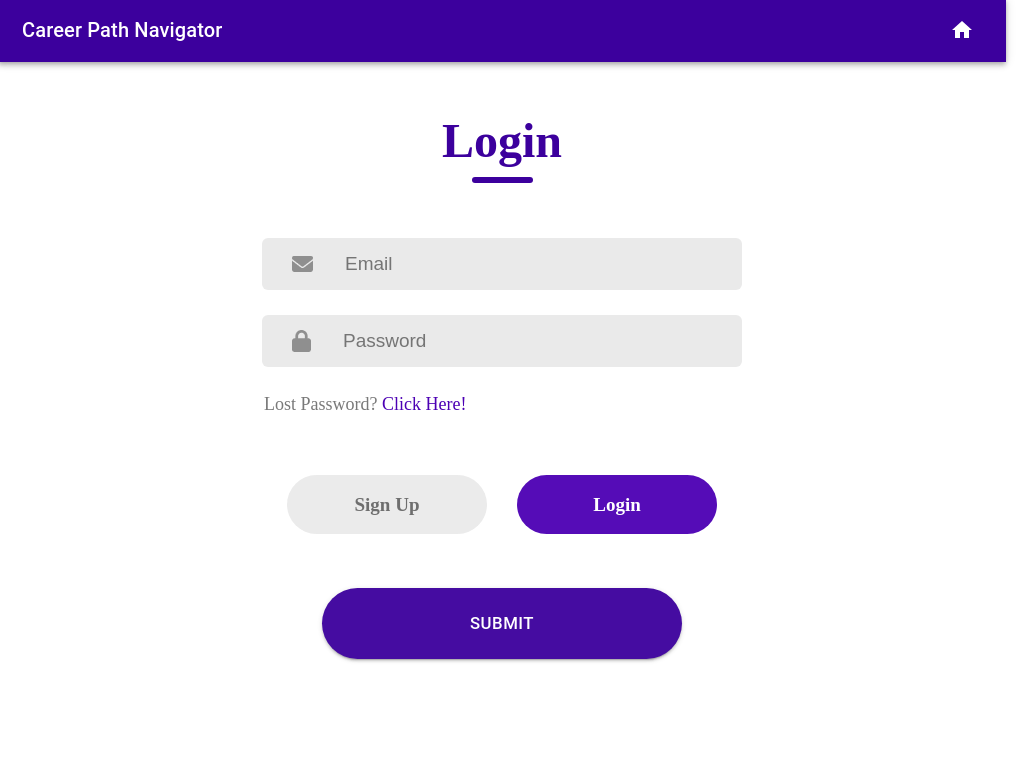
Test case: LoginSignup Component › should submit login form and handle errors
The image size is (1024, 768).
// Enter login credentials
In the field with placeholder "Email": (543, 264) [343,238,742,290], type "testuser@example.com"
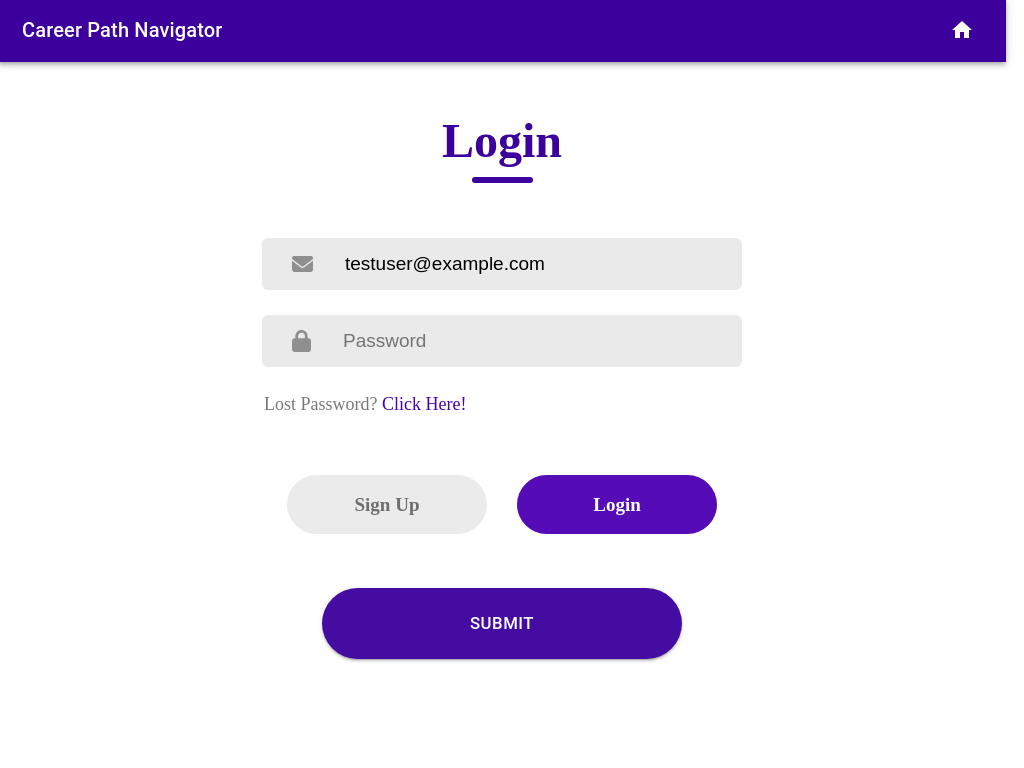
In the password field with placeholder "Password": (542, 341) [341,315,742,367], type "wrongpassword"
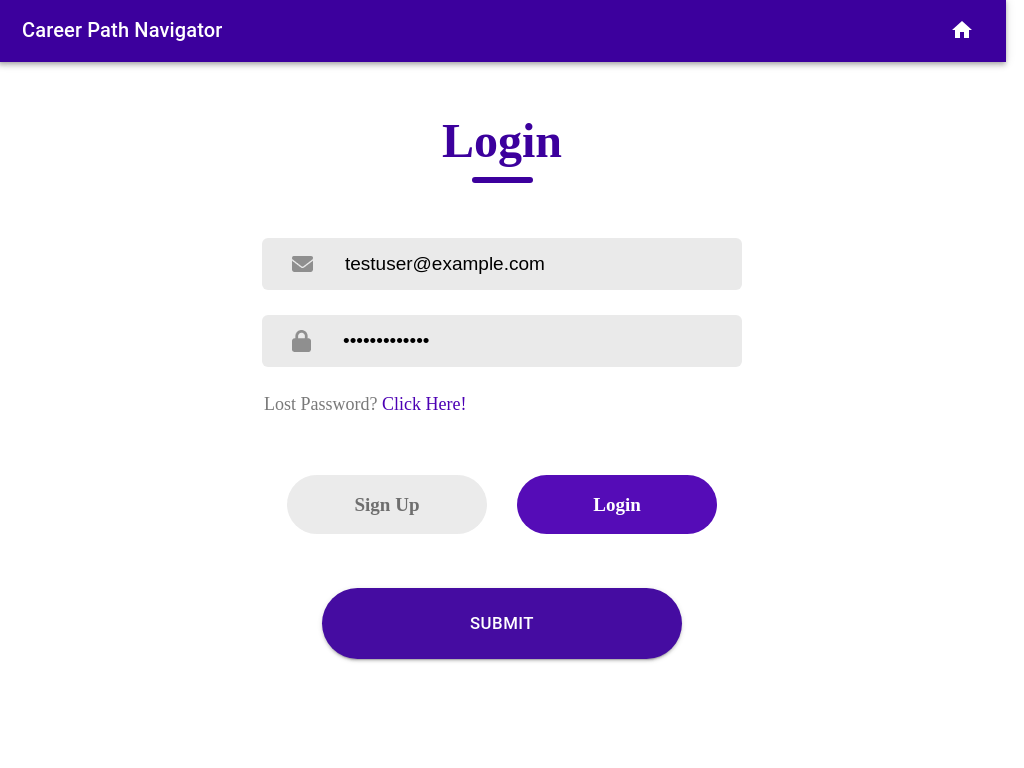
// Click submit
Click the submit button: (502, 624) [322,588,682,659]
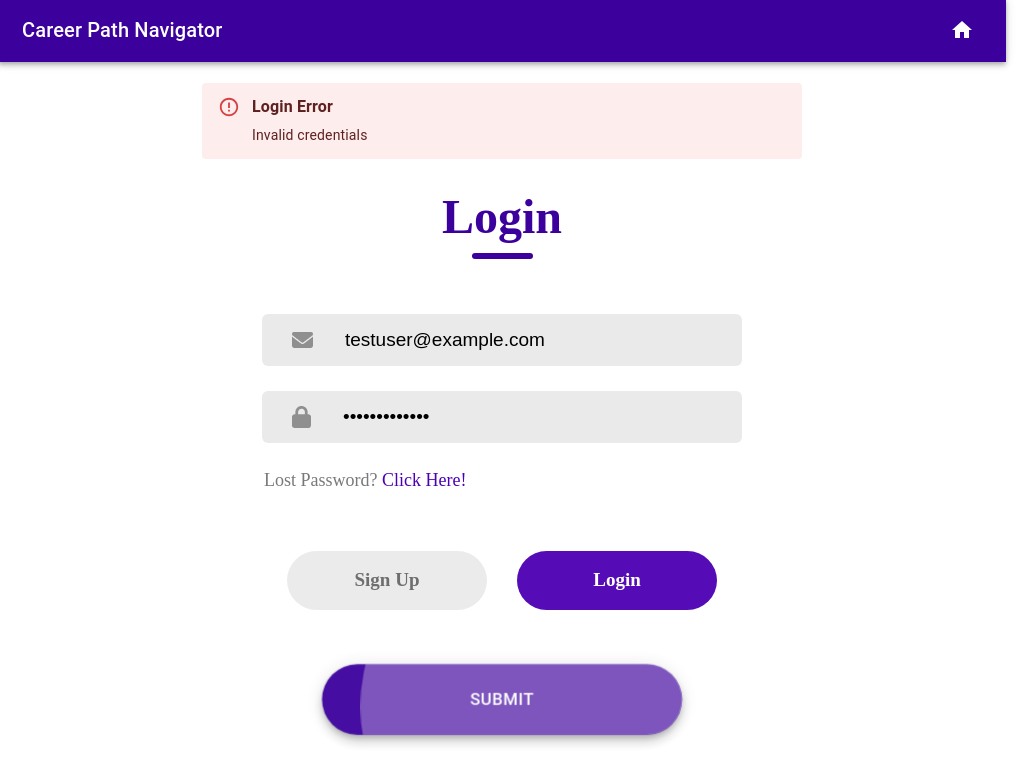
expect the text "Login Error" is shown: met, box [252,97,333,116]
expect the text "Invalid credentials" is shown: met, box [252,127,368,143]
